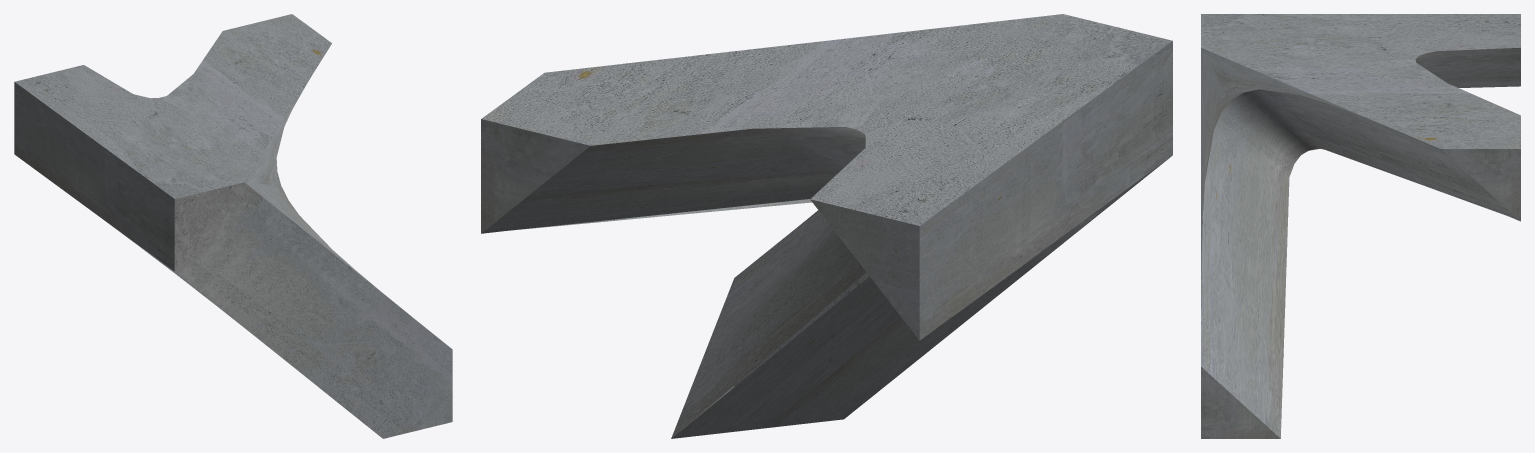
Rendered from module_M1.fbx.
3 views of the same model, side by side, from view 1: azimuth 30°, elevation 25°; view 2: azimuth 150°, elevation 25°; view 3: azimuth 270°, elevation 25° (orthographic). The views are drawn at different scales.
Parts seen in each view (by area): view 1: modules; view 2: modules; view 3: modules.
Boxes of the visible parts, x1=… form: modules: x1=14, y1=14, x2=452, y2=438; modules: x1=481, y1=14, x2=1172, y2=438; modules: x1=1201, y1=14, x2=1520, y2=438.
Size of the model in its own units: 1000 by 1000 by 1000.
1 material, 1 textured.
